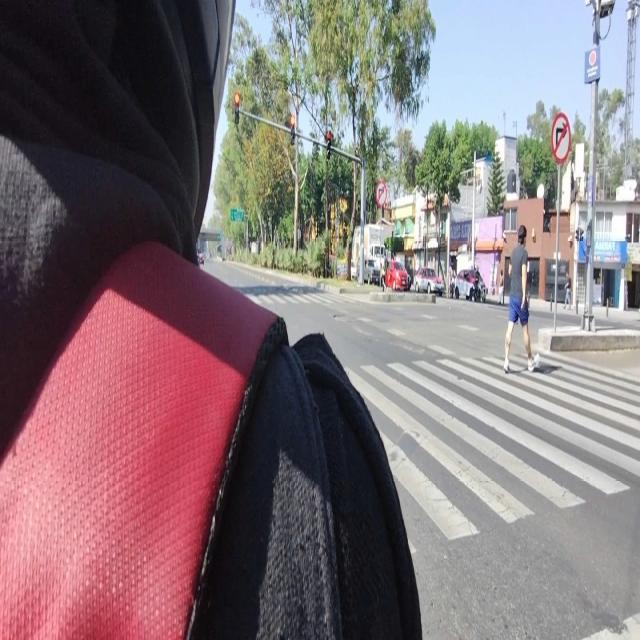adult: (501, 222, 535, 372)
